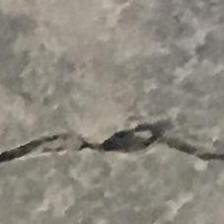Crack: (0, 110, 224, 201)
